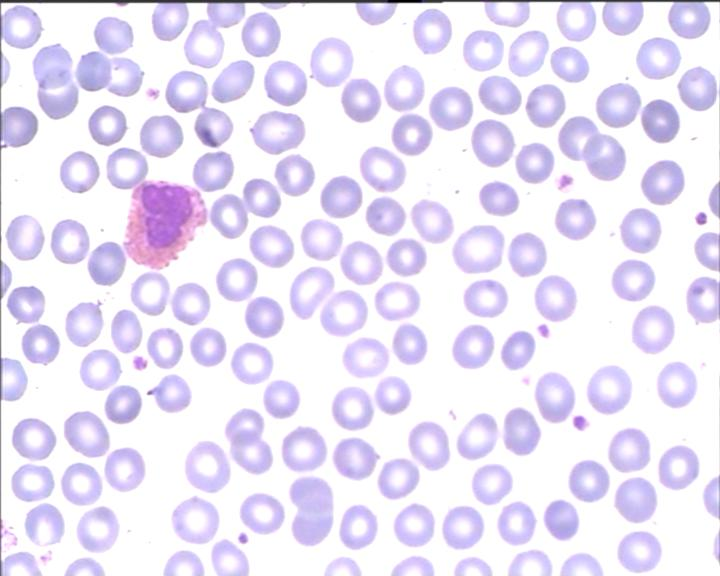eosi: (118, 178, 209, 270)
